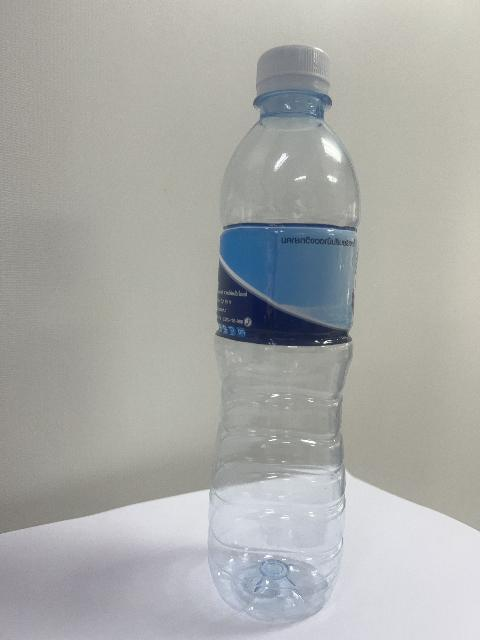bottle: (208, 46, 358, 622)
